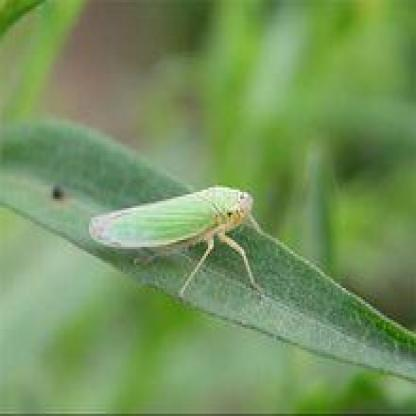Green-Leafhopper: (88, 185, 277, 305)
